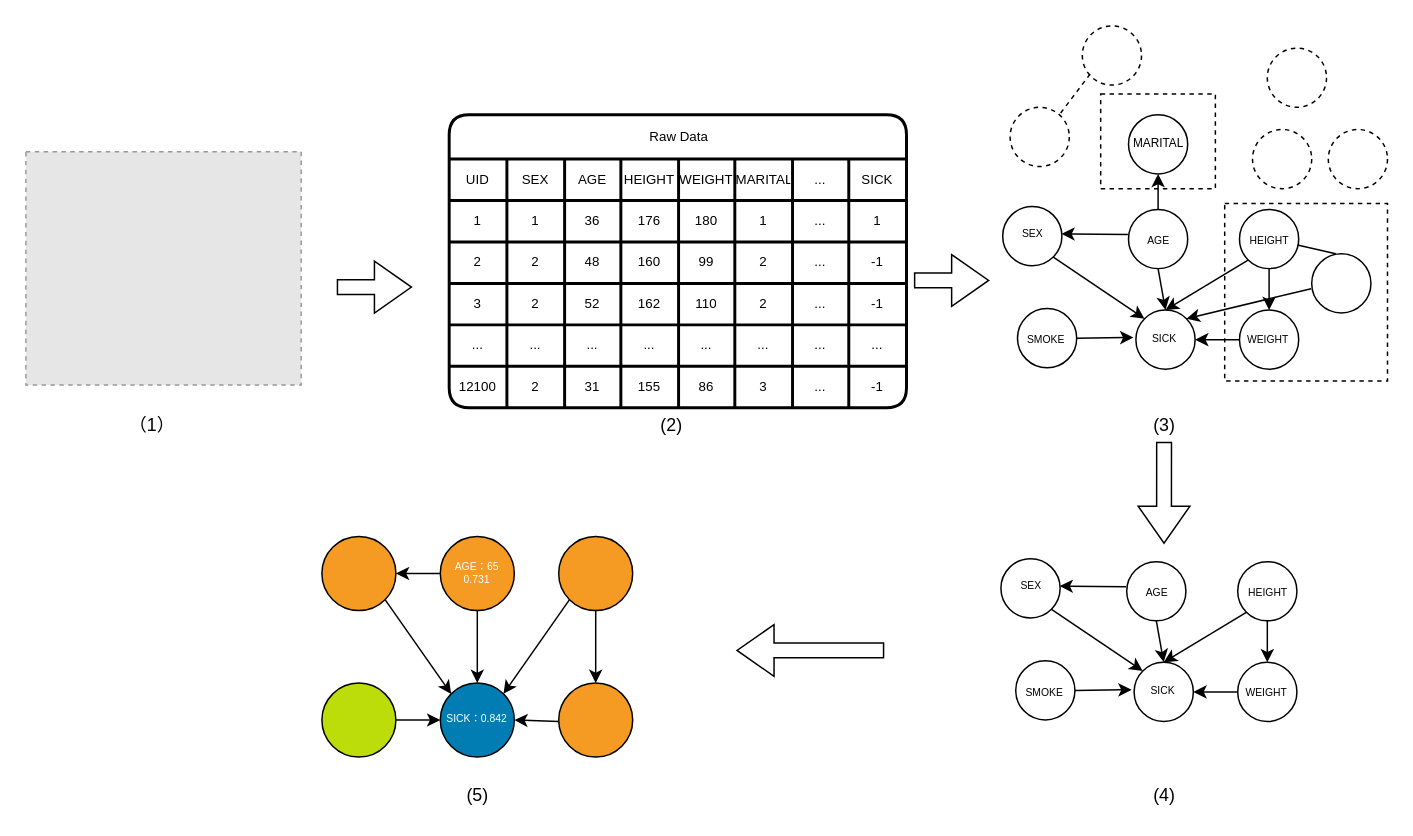
The diagram is 1413 pixels wide and 836 high, and some of its shapes have lost their labels. Grey dashed boxes stand in for pictures. Each missing label, with the centre of its shape:
"BMI" goes at (1340,282).
"HEIGHT：160 0.05" goes at (595,572).
"SEX :1 0.067" goes at (358,572).
"SMOKE：-1 -0.125" goes at (358,719).
"WEIGHT：170 0.119" goes at (595,719).
